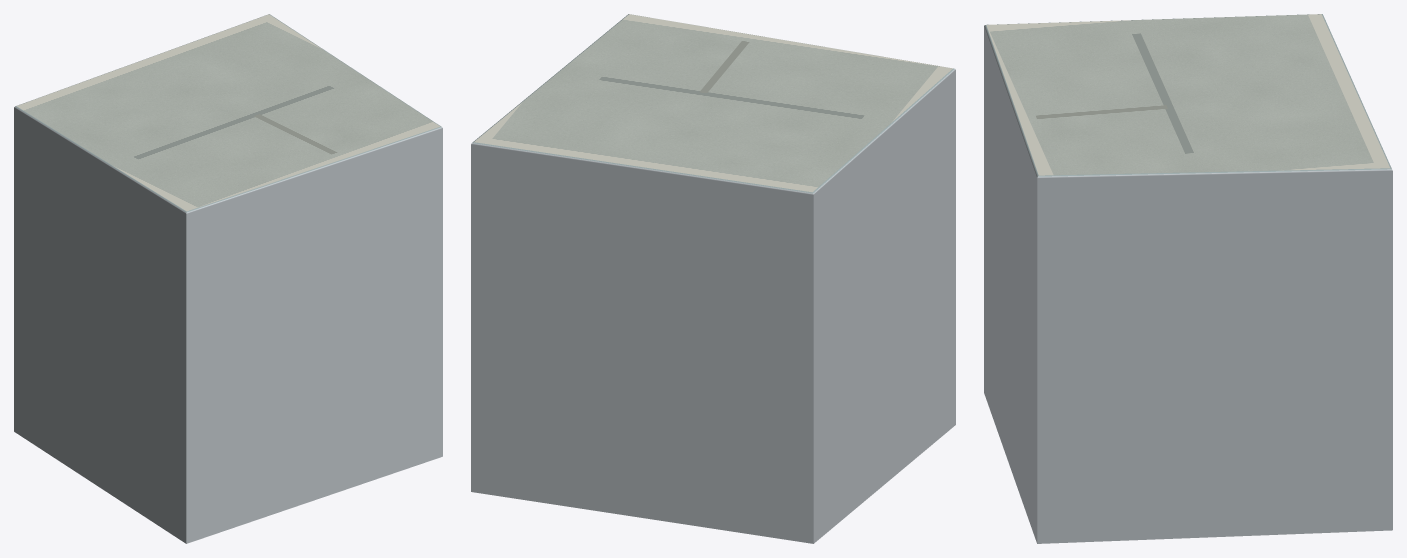
The model's file is intact.glb.
The picture shows the model from 3 angles, left to right: view 1: azimuth 30°, elevation 25°; view 2: azimuth 150°, elevation 25°; view 3: azimuth 270°, elevation 25°; orthographic projection. The views are drawn at different scales.
Visible parts, largest first — view 1: SM_animal_Intact_00; view 2: SM_animal_Intact_00; view 3: SM_animal_Intact_00.
Boxes of the visible parts, x1,y1,x2,y2 form: SM_animal_Intact_00: (14,14,442,543); SM_animal_Intact_00: (471,14,955,543); SM_animal_Intact_00: (984,14,1392,543).
Size of the model in its own units: 2.08 by 2.19 by 2.2.
3 materials, 1 textured.
